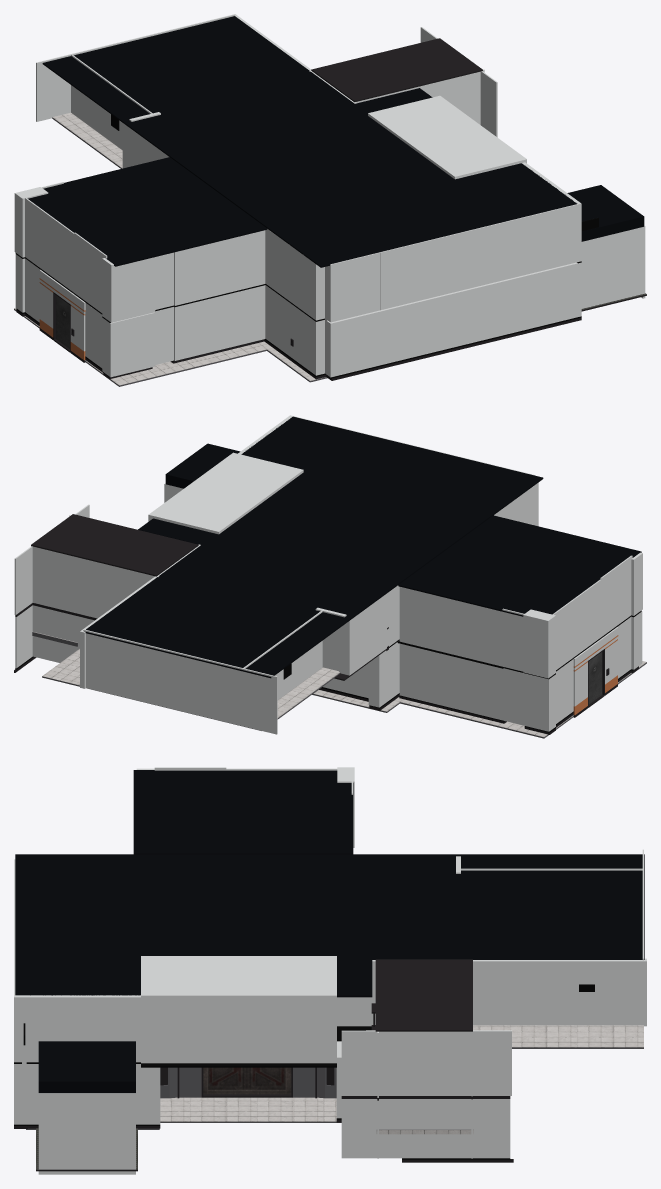
Rendered from SCP Gate B.obj.
3 views of the same model, one above another, from view 1: azimuth 30°, elevation 25°; view 2: azimuth 150°, elevation 25°; view 3: azimuth 270°, elevation 25° (orthographic). The views are drawn at different scales.
Parts seen in each view (by area): view 1: Part140, Part198, Part58, Part161, Part133, Part194, Part508, Part510, Part636, Part134, Part100, Part473 (+29 smaller); view 2: Part140, Part198, Part58, Part22, Part133, Part648, Part646, Part194, Part181, Part1, Part55, Part196 (+20 smaller); view 3: Part140, Part198, Part133, Part58, Part182, Part794, Part796, Part633, Part194, Part130, Part630, Part128 (+13 smaller).
Part boxes in pixels (<box>): Part140: <box>162,88,577,267</box>; Part198: <box>42,16,354,151</box>; Part58: <box>28,157,267,266</box>; Part161: <box>325,262,581,377</box>; Part133: <box>368,95,526,179</box>; Part194: <box>311,38,482,102</box>; Part508: <box>174,285,265,360</box>; Part510: <box>174,230,265,305</box>; Part636: <box>581,227,642,308</box>; Part134: <box>265,229,324,320</box>; Part100: <box>265,285,324,375</box>; Part473: <box>102,257,155,322</box>; Part140: <box>138,416,543,591</box>; Part198: <box>84,545,388,678</box>; Part58: <box>398,515,641,616</box>; Part22: <box>83,629,277,734</box>; Part133: <box>148,452,303,534</box>; Part648: <box>399,587,502,666</box>; Part646: <box>399,643,503,720</box>; Part194: <box>31,514,198,576</box>; Part181: <box>32,546,158,618</box>; Part1: <box>339,585,399,675</box>; Part55: <box>552,579,601,669</box>; Part196: <box>32,605,94,662</box>; Part140: <box>15,854,372,997</box>; Part198: <box>372,854,644,959</box>; Part133: <box>141,956,336,1063</box>; Part58: <box>133,770,353,854</box>; Part182: <box>473,958,646,1026</box>; Part794: <box>341,1030,511,1095</box>; Part796: <box>341,1099,510,1158</box>; Part633: <box>38,1093,135,1174</box>; Part194: <box>375,959,472,1031</box>; Part130: <box>14,995,140,1062</box>; Part630: <box>38,1041,135,1093</box>; Part128: <box>136,1064,160,1124</box>.
Size of the model in its own units: 80.56 by 19.46 by 79.46.
26 materials, 16 textured.
